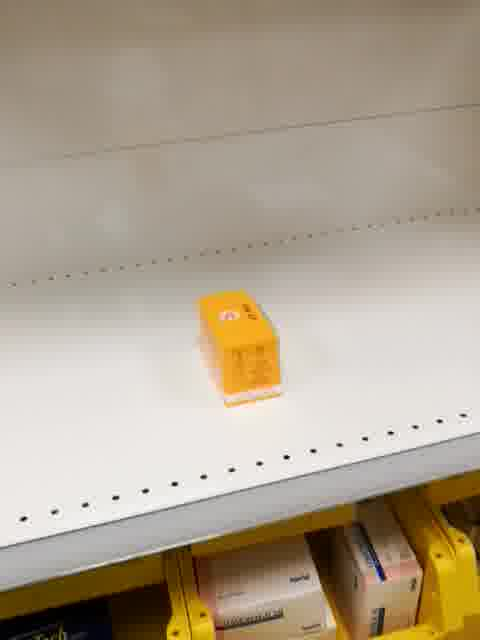jasminetea: (193, 288, 284, 409)
